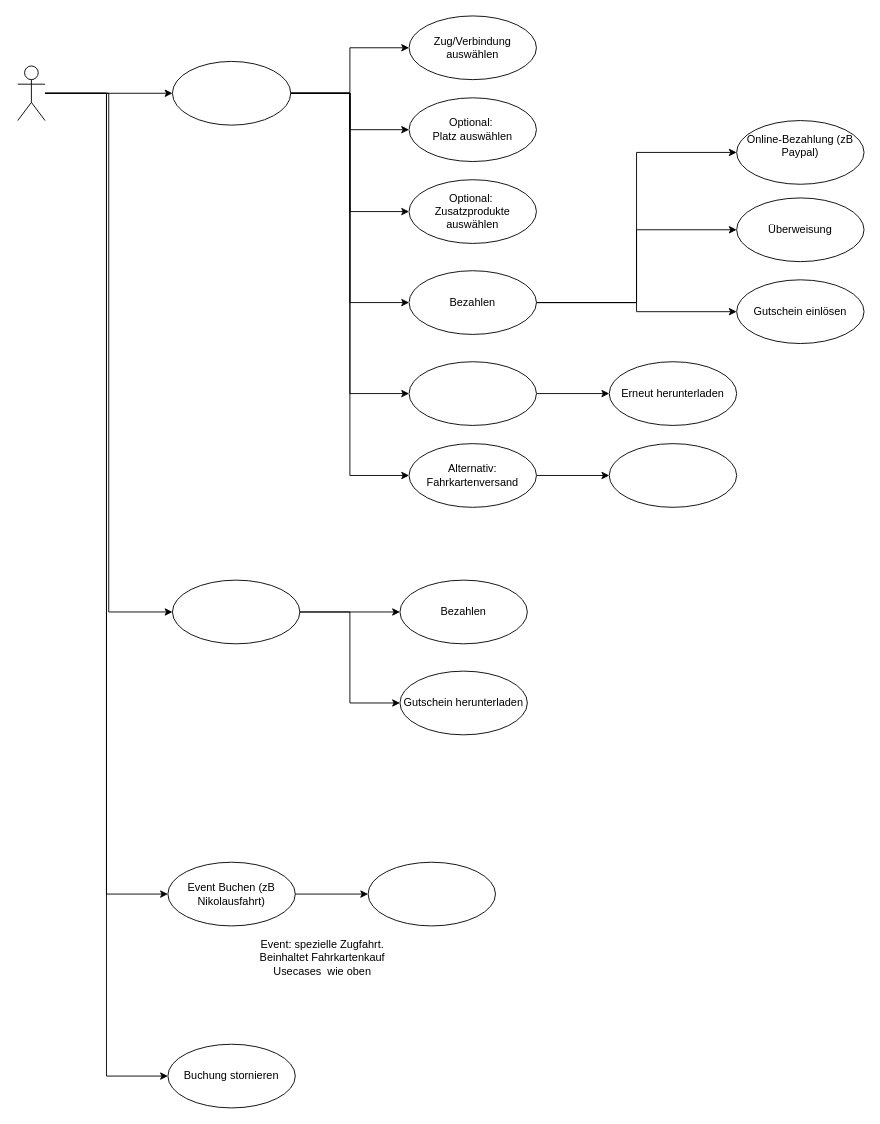
Image size: 880x1124. Some labels were removed from this diagram. Each missing label, with the box of its shape:
Alternativ: PDF Fahrkarte: (408, 361, 536, 425)
Auf Warteliste einschreiben: (367, 861, 495, 926)
Fahrkarte kaufen: (172, 61, 291, 125)
Gutschein Kaufen: (172, 579, 300, 644)
Kunde: (17, 65, 45, 121)
Statusabrfage: (608, 443, 737, 507)
